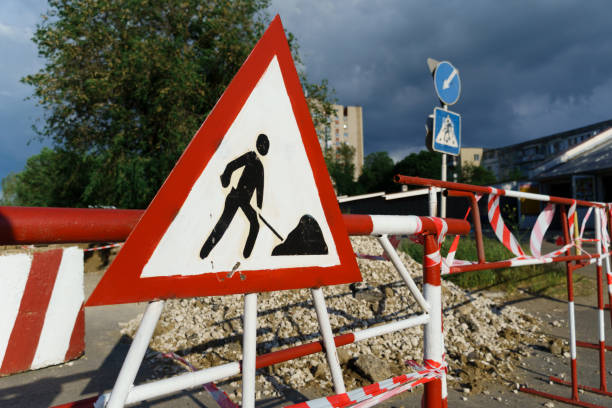yol_calismasi_levha: (76, 14, 364, 287)
